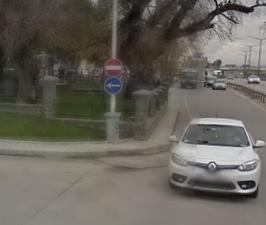turnleft: (104, 77, 122, 95)
